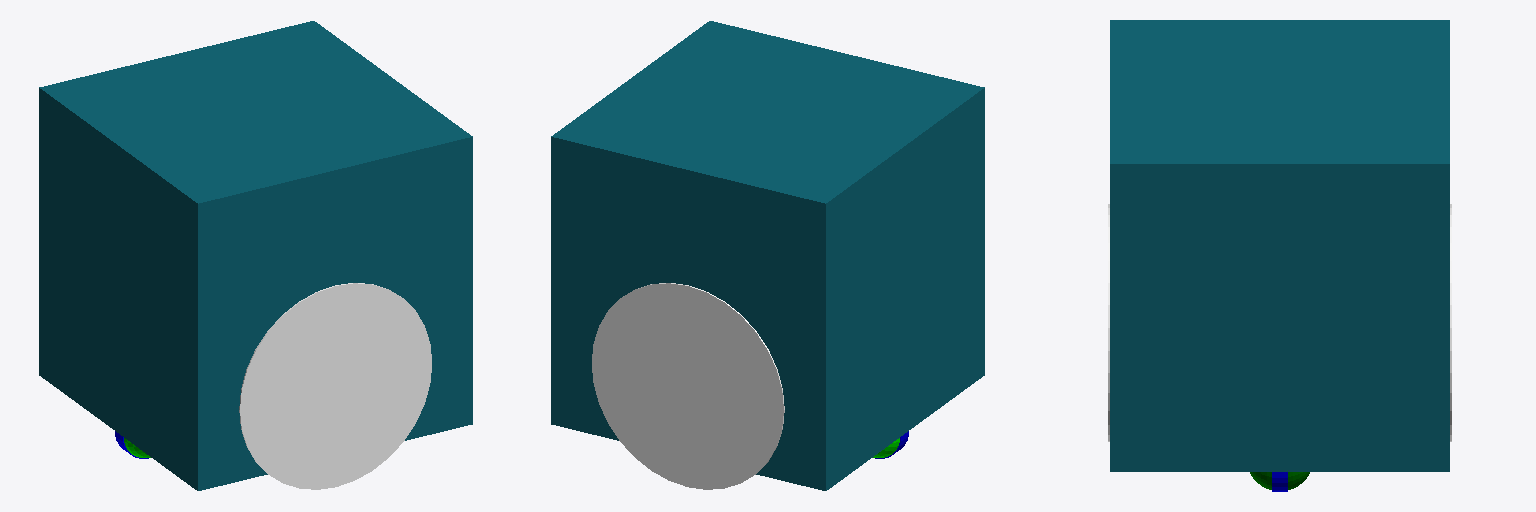
The robot description file, URDF, robot "box_bot":
<?xml version="1.0"?>
<robot name="box_bot">

  <material name="red">
      <color rgba="1.0 0.0 0.0 1"/>
  </material>

  <material name="green_light">
      <color rgba="0.0 1.0 0.0 1"/>
  </material>

  <material name="green_dark">
    <color rgba="0.0 0.5 0.0 1"/>
  </material>

  <material name="blue">
      <color rgba="0.0 0.0 1.0 1"/>
  </material>

  <material name="yellow">
      <color rgba="1.0 1.0 0.0 1"/>
  </material>

  <material name="black">
      <color rgba="0.0 0.0 0.0 1"/>
  </material>

  <material name="white">
      <color rgba="1.0 1.0 1.0 1"/>
  </material>

  <material name="box_bot_blue">
      <color rgba="0.088656 0.428691 0.491021 1"/>
  </material>

 <link name="base_link">
 </link>

 <link name="chassis">
    <visual>
    <geometry>
        <box size="0.1 0.1 0.1"/>
    </geometry>
    <material name="box_bot_blue"/>
    </visual>
 </link>

 <joint name="base_link_joint" type="fixed">
     <origin rpy="0 0 0" xyz="0 0 0" />
     <parent link="base_link" />
     <child link="chassis" />
 </joint>

 <link name="left_wheel">
    <visual>
    <origin rpy="0 1.5707 1.5707" xyz="0 0 0"/>
    <geometry>
        <cylinder length="0.001" radius="0.035"/>
    </geometry>
    <material name="white"/>
    </visual>
 </link>

  <joint name="joint_left_wheel" type="continuous">
    <origin rpy="0 0 0" xyz="0 0.05 -0.025"/>
    <child link="left_wheel"/>
    <parent link="chassis"/>
    <axis rpy="0 0 0" xyz="0 1 0"/>
    <limit effort="10000" velocity="1000"/>
    <joint_properties damping="1.0" friction="1.0"/>
  </joint>

 <link name="right_wheel">
    <visual>
    <origin rpy="0 1.5707 1.5707" xyz="0 0 0"/>
    <geometry>
        <cylinder length="0.001" radius="0.035"/>
    </geometry>
    <material name="white"/>
    </visual>
 </link>

 <joint name="joint_right_wheel" type="continuous">
    <origin rpy="0 0 0" xyz="0 -0.05 -0.025"/>
    <child link="right_wheel"/>
    <parent link="chassis"/>
    <axis rpy="0 0 0" xyz="0 1 0"/>
    <limit effort="10000" velocity="1000"/>
    <joint_properties damping="1.0" friction="1.0"/>
  </joint>

 <link name="front_yaw_link">
    <visual>
    <origin rpy="0 1.5707 1.5707" xyz="0 0 0" />
    <geometry>
        <cylinder length="0.005" radius="0.010"/>
    </geometry>
    <material name="blue"/>
    </visual>
 </link>

   <joint name="front_yaw_joint" type="continuous">
    <origin rpy="0 0 0" xyz="0.04 0 -0.05" />
    <parent link="chassis" />
    <child link="front_yaw_link" />
    <axis xyz="0 0 1" />
    <limit effort="1000.0" velocity="100.0" />
    <dynamics damping="0.0" friction="0.1"/>
  </joint>

  <link name="front_roll_link">
      <visual>
        <origin rpy="0 1.5707 1.5707" xyz="0 0 0"/>
        <geometry>
          <cylinder length="0.005" radius="0.010"/>
        </geometry>
        <material name="red"/>
      </visual>
  </link>

   <joint name="front_roll_joint" type="continuous">
    <origin rpy="0 0 0" xyz="0 0 0" />
    <parent link="front_yaw_link" />
    <child link="front_roll_link" />
    <axis xyz="1 0 0" />
    <limit effort="1000.0" velocity="100.0" />
    <dynamics damping="0.0" friction="0.1"/>
  </joint>

  <link name="front_pitch_link">
    <visual>
      <origin rpy="0 1.5707 1.5707" xyz="0 0 0"/>
      <geometry>
        <sphere radius="0.010"/>
      </geometry>
      <material name="green_dark"/>
    </visual>
  </link>

  <joint name="front_pitch_joint" type="continuous">
    <origin rpy="0 0 0" xyz="0 0 0" />
    <parent link="front_roll_link" />
    <child link="front_pitch_link" />
    <axis xyz="0 1 0" />
    <limit effort="1000.0" velocity="100.0" />
    <dynamics damping="0.0" friction="0.1"/>
  </joint>

   <link name="back_yaw_link">
    <visual>
        <origin rpy="0 1.5707 1.5707" xyz="0 0 0"/>
        <geometry>
          <cylinder length="0.005" radius="0.010"/>
        </geometry>
        <material name="blue"/>
      </visual>
  </link>

  <joint name="back_yaw_joint" type="continuous">
    <origin rpy="0 0 0" xyz="-0.04 0 -0.05" />
    <parent link="chassis" />
    <child link="back_yaw_link" />
    <axis xyz="0 0 1" />
    <limit effort="1000.0" velocity="100.0" />
    <dynamics damping="0.0" friction="0.1"/>
  </joint>

  <link name="back_roll_link">
      <visual>
        <origin rpy="0 1.5707 1.5707" xyz="0 0 0"/>
        <geometry>
          <cylinder length="0.005" radius="0.010"/>
        </geometry>
        <material name="red"/>
      </visual>
  </link>

  <joint name="back_roll_joint" type="continuous">
    <origin rpy="0 0 0" xyz="0 0 0" />
    <parent link="back_yaw_link" />
    <child link="back_roll_link" />
    <axis xyz="1 0 0" />
    <limit effort="1000.0" velocity="100.0" />
    <dynamics damping="0.0" friction="0.1"/>
  </joint>

  <link name="back_pitch_link">
    <visual>
      <origin rpy="0 1.5707 1.5707" xyz="0 0 0"/>
      <geometry>
        <sphere radius="0.010"/>
      </geometry>
      <material name="green_light"/>
    </visual>
  </link>

  <joint name="back_pitch_joint" type="continuous">
    <origin rpy="0 0 0" xyz="0 0 0" />
    <parent link="back_roll_link" />
    <child link="back_pitch_link" />
    <axis xyz="0 1 0" />
    <limit effort="1000.0" velocity="100.0" />
    <dynamics damping="0.0" friction="0.1"/>
  </joint>

</robot>

--- What the picture shows (computed from the rendered views, not written in the file) ---
Views: 3 orthographic renders of the robot side by side, from view 1: azimuth 30°, elevation 25°; view 2: azimuth 150°, elevation 25°; view 3: azimuth 270°, elevation 25°.
Robot: box_bot — 10 links, 9 joints (8 continuous, 1 fixed); root link base_link; default pose: every joint at zero.
Links seen in each view (by area): view 1: chassis, right_wheel; view 2: chassis, left_wheel; view 3: chassis, front_pitch_link.
Boxes of the visible links, x1,y1,x2,y2 form: chassis: (39, 21, 472, 490); right_wheel: (239, 283, 431, 489); chassis: (551, 21, 984, 490); left_wheel: (592, 283, 784, 489); chassis: (1110, 20, 1449, 471); front_pitch_link: (1250, 472, 1309, 489).
Size in the robot's own frame: 0.1 by 0.101 by 0.11 metres.
Geometry: primitives only (box / cylinder / sphere), no mesh files.